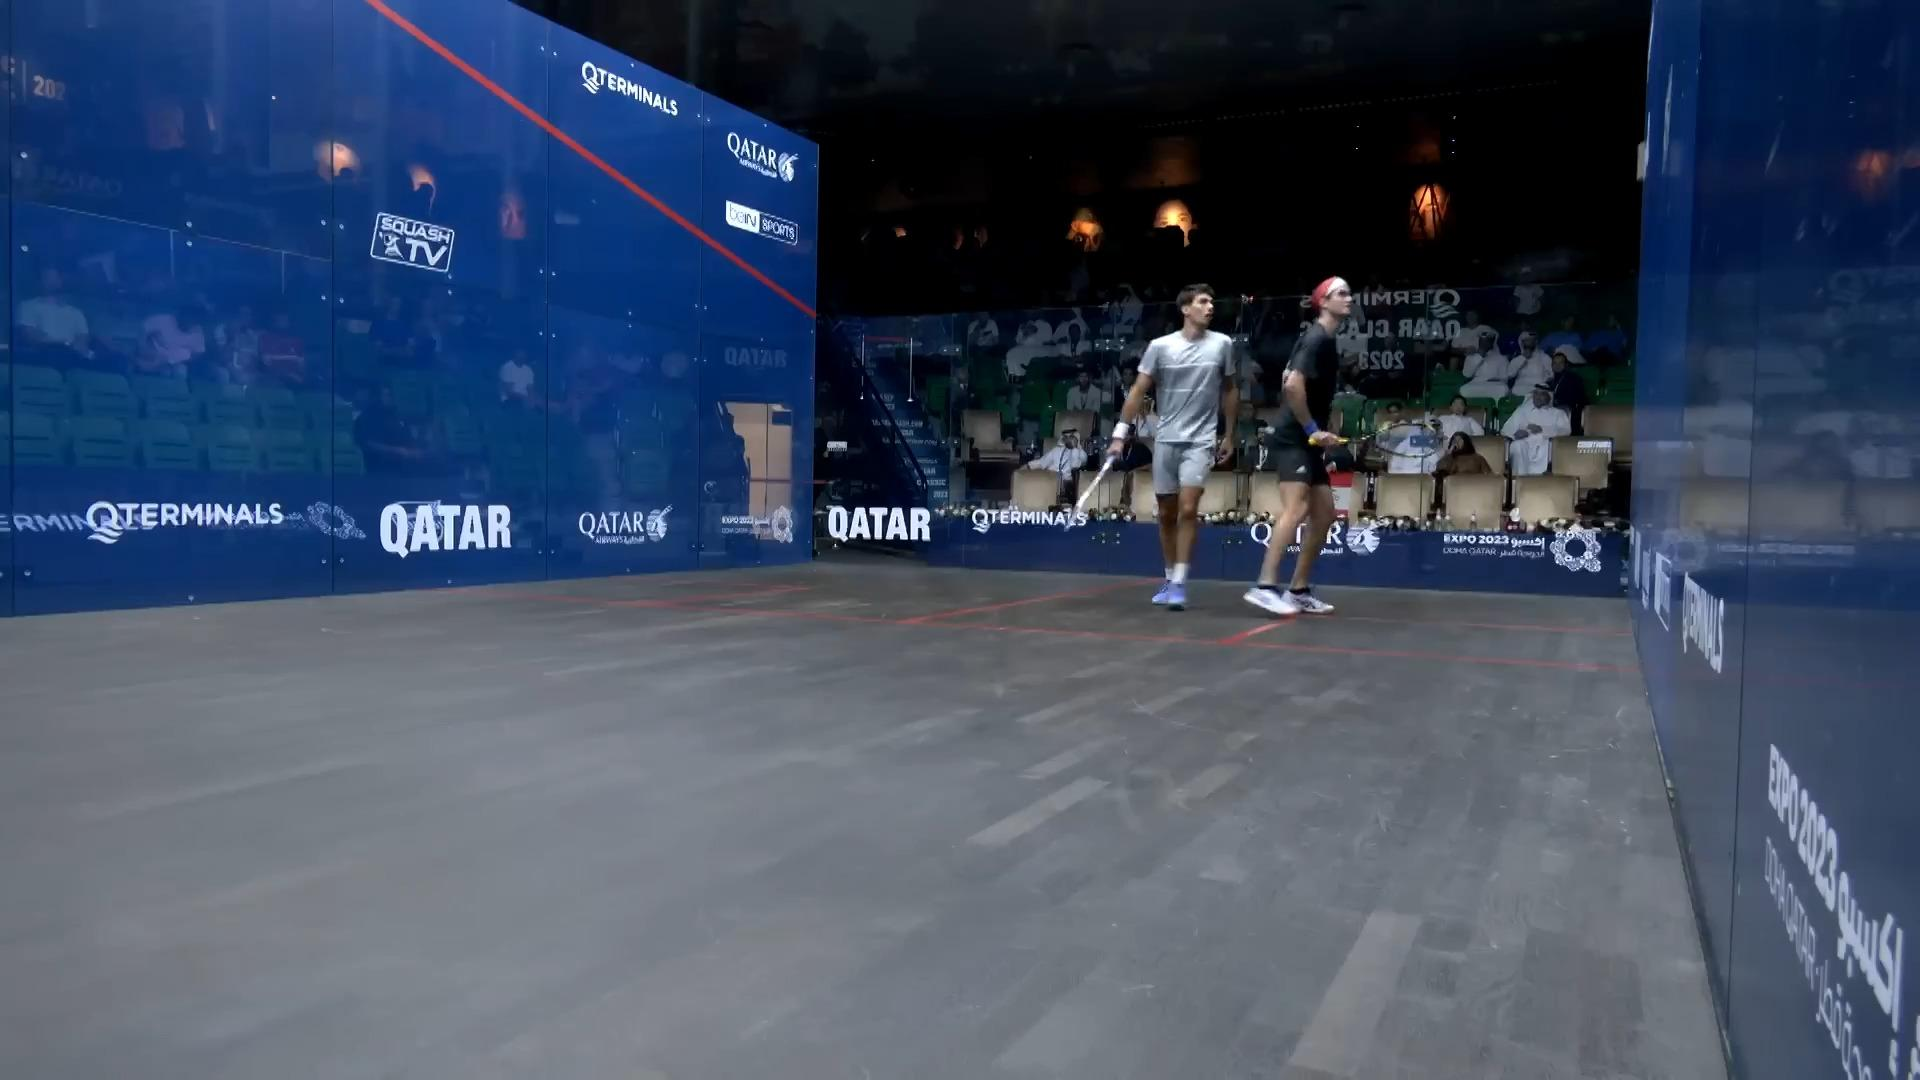Racket: (1337, 419, 1441, 465), (1063, 454, 1114, 535)
